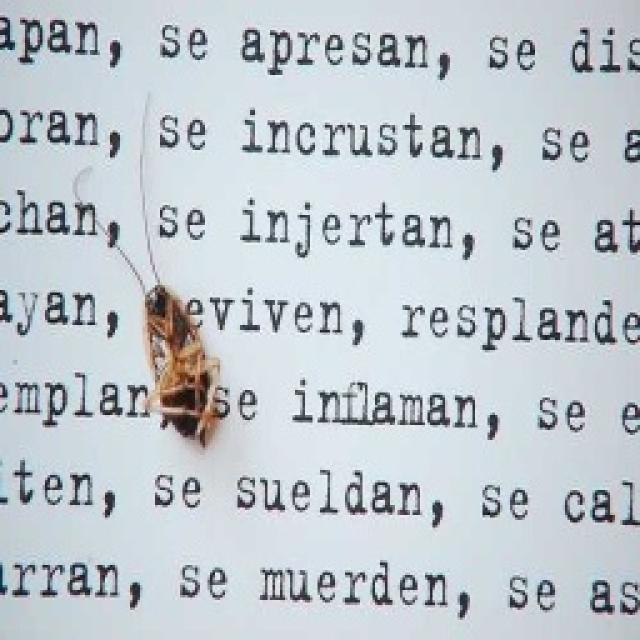cockroach: (107, 245, 222, 453)
